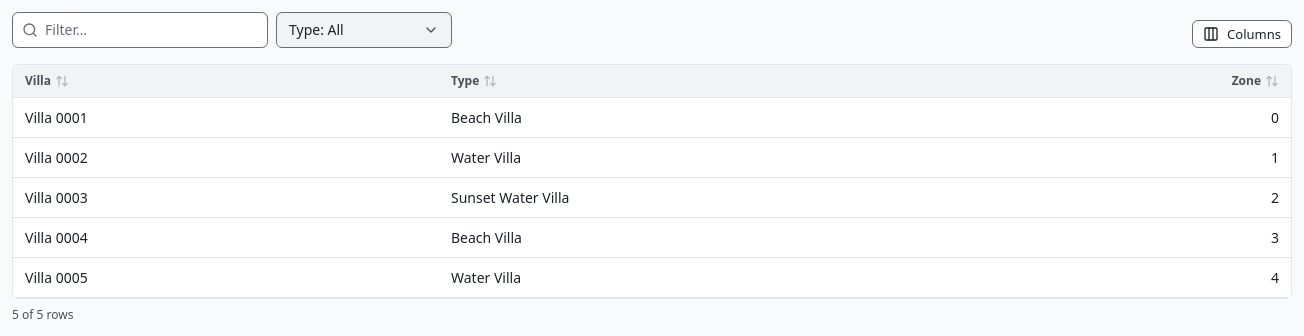
DataTable › hides columns from the column menu (identity columns stay)
This screenshot has width=1304, height=336.
Click the button "Columns": (1242, 34) [1192,20,1292,48]
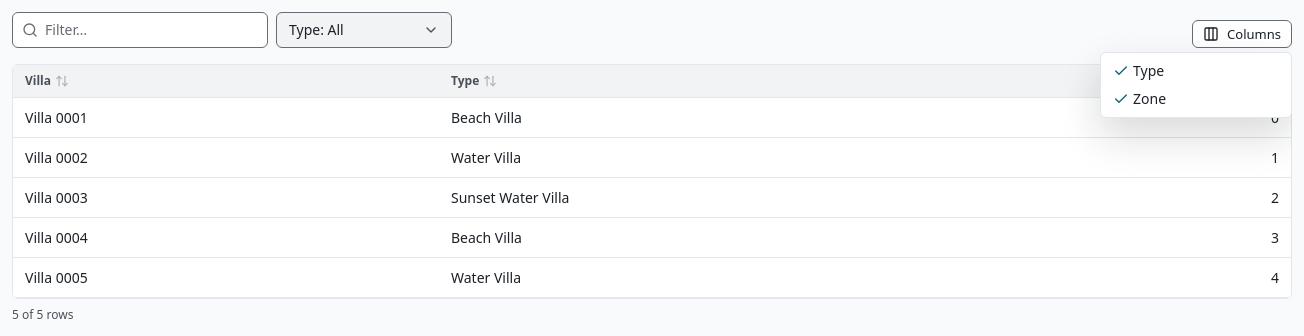
Click the menu item "Zone": (1140, 98) [1113,89,1166,108]
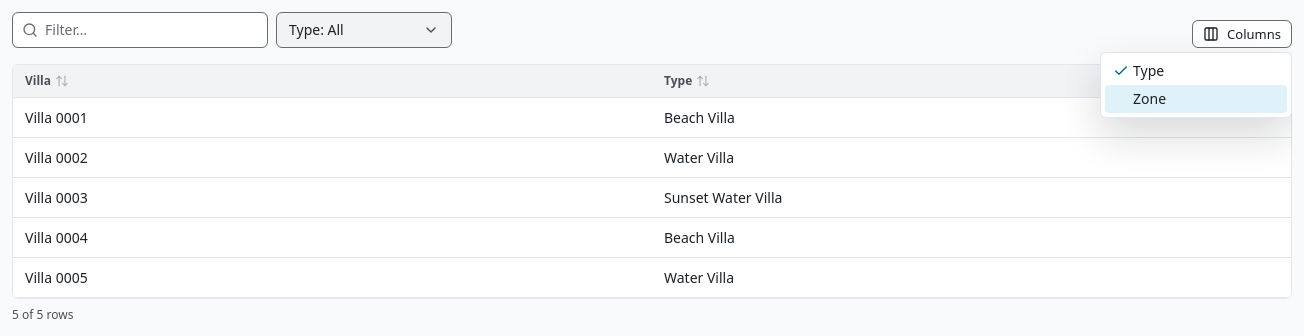
Press Escape
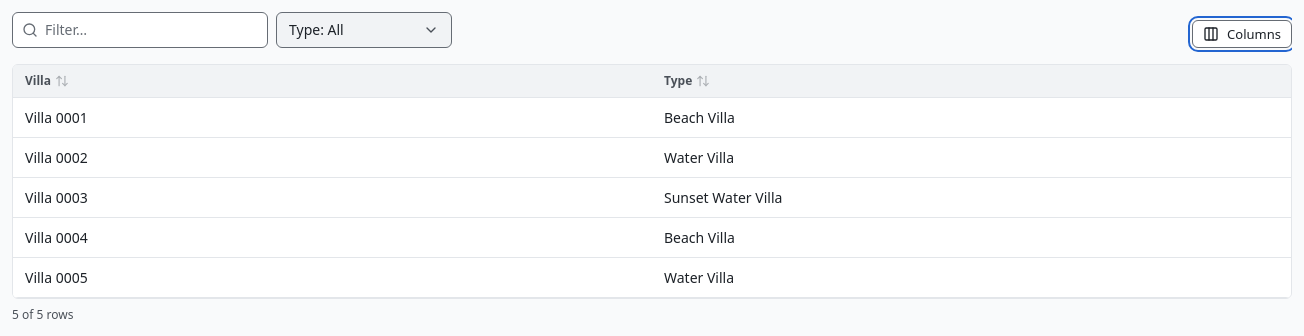
Expected: the menu item "Zone" is gone
